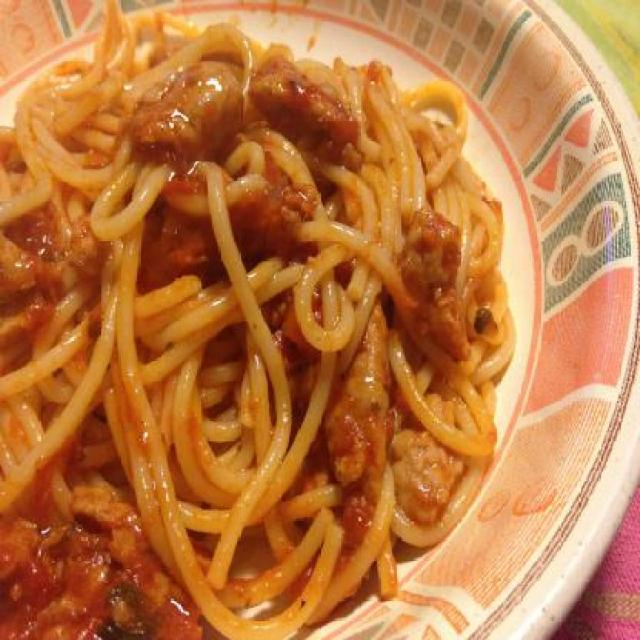Pasta al ragu: (14, 26, 512, 602)
